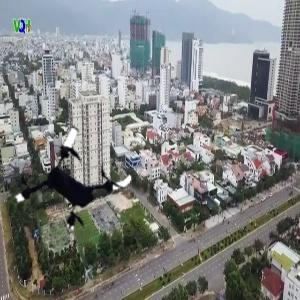drone: (14, 117, 136, 239)
